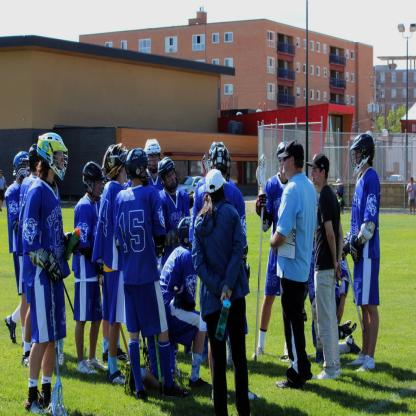Helmet: (29, 135, 64, 184), (346, 134, 374, 178), (123, 146, 151, 188), (80, 160, 104, 200), (103, 142, 125, 180), (157, 156, 178, 194), (211, 146, 231, 182), (142, 138, 161, 175), (13, 148, 28, 181), (274, 142, 288, 174), (179, 212, 191, 244), (26, 143, 39, 172), (205, 141, 226, 153)
